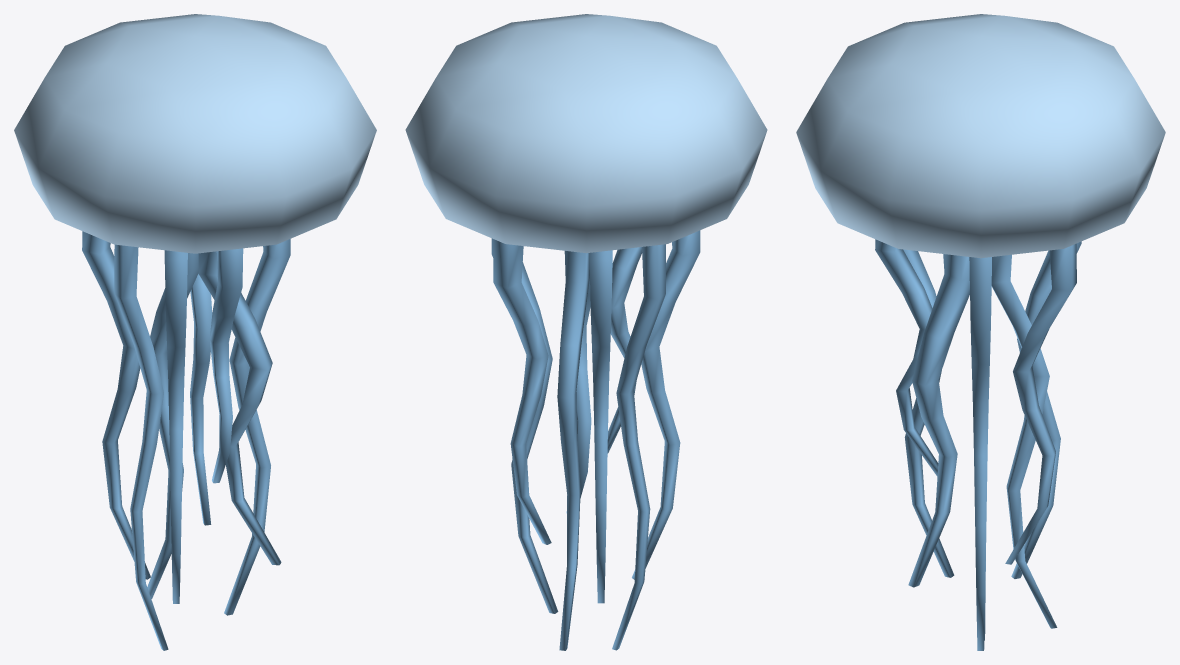
The model's file is Mini-Medusa.glb.
3 views of the same model, side by side, from view 1: azimuth 30°, elevation 25°; view 2: azimuth 150°, elevation 25°; view 3: azimuth 270°, elevation 25° (orthographic). The views are drawn at different scales.
Visible parts, largest first — view 1: Medusa_002; view 2: Medusa_002; view 3: Medusa_002.
Boxes of the visible parts, box(x1,y1,x2,y2) form: Medusa_002: box(14, 14, 376, 650); Medusa_002: box(405, 14, 767, 650); Medusa_002: box(796, 14, 1165, 650).
Size of what is drawn, in the model's own units: 0.6191 by 1.14 by 0.6191.
1 material, 1 textured.
